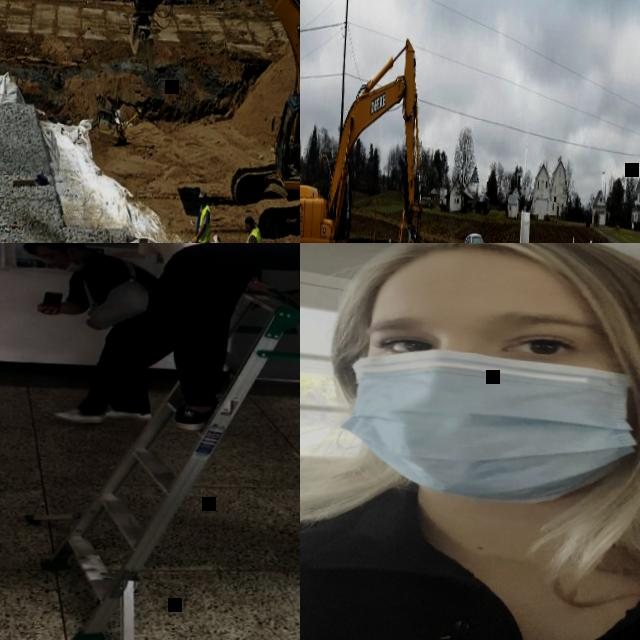Mask: (342, 344, 640, 505), (64, 249, 86, 274)
NO-Hardhat: (339, 243, 640, 324), (23, 243, 67, 252), (198, 188, 206, 198), (245, 213, 252, 220)
NO-Mask: (200, 200, 207, 204), (246, 226, 251, 231)
NO-Safety Vest: (300, 491, 640, 640), (86, 256, 160, 334)
Person: (300, 243, 640, 640), (123, 243, 300, 443), (13, 243, 181, 428), (186, 186, 213, 243), (235, 212, 268, 243), (292, 111, 300, 158)
Safety Vest: (195, 204, 212, 243), (244, 225, 265, 243)
vehicle: (118, 0, 300, 241), (300, 23, 454, 243), (458, 228, 490, 243)
